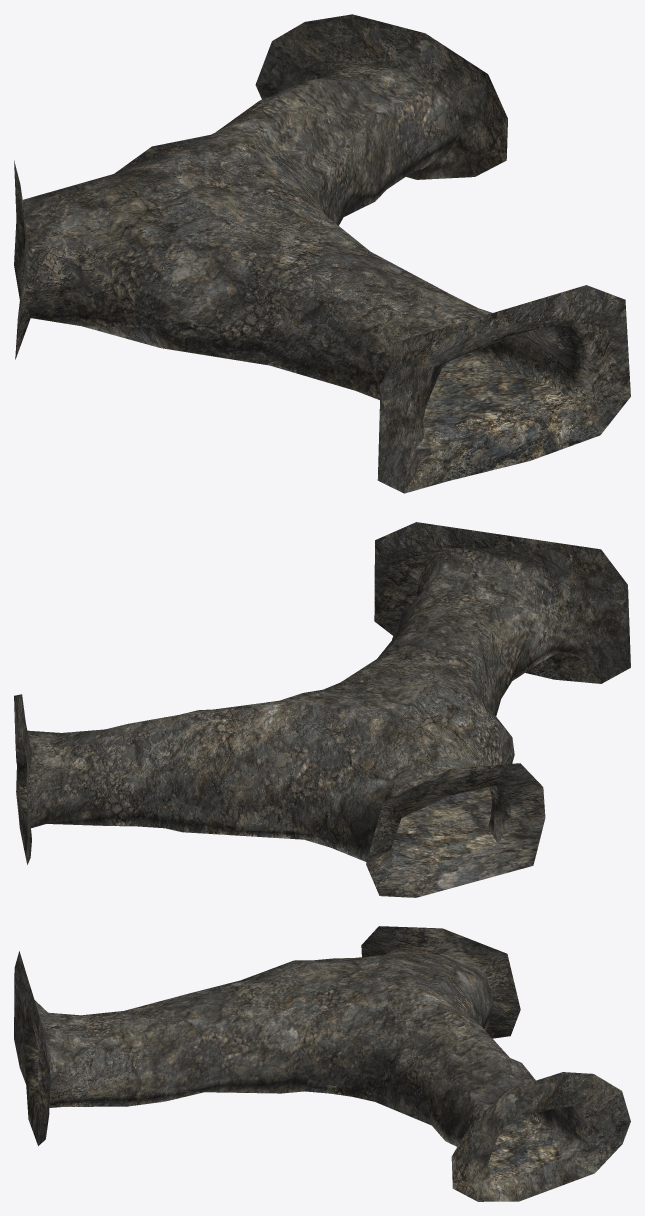
The model's file is Cave27.fbx.
3 renders of one model, top to bottom at view 1: azimuth 30°, elevation 25°; view 2: azimuth 150°, elevation 25°; view 3: azimuth 270°, elevation 25°, orthographic. The views are drawn at different scales.
Visible parts, largest first — view 1: Cave27; view 2: Cave27; view 3: Cave27.
Part boxes in pixels (left/top/right/bottom): Cave27: left=14, top=14, right=630, bottom=493; Cave27: left=14, top=522, right=630, bottom=897; Cave27: left=14, top=926, right=630, bottom=1201.
Bounding box in the file's own units: 334 × 95.34 × 427.
